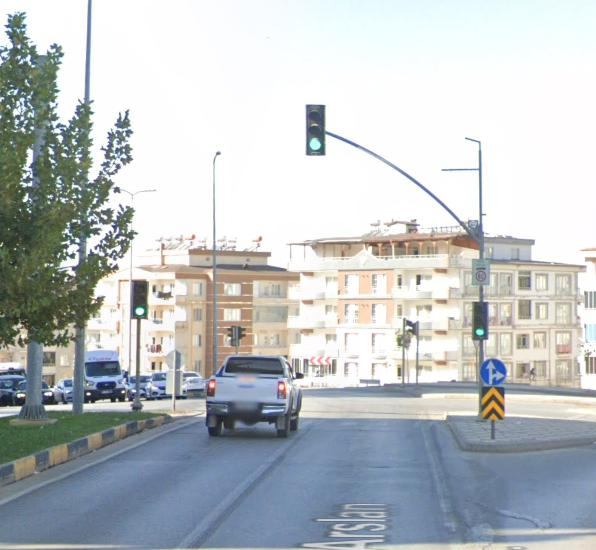greenlight: (307, 104, 327, 155), (130, 279, 147, 316), (472, 301, 487, 337)
